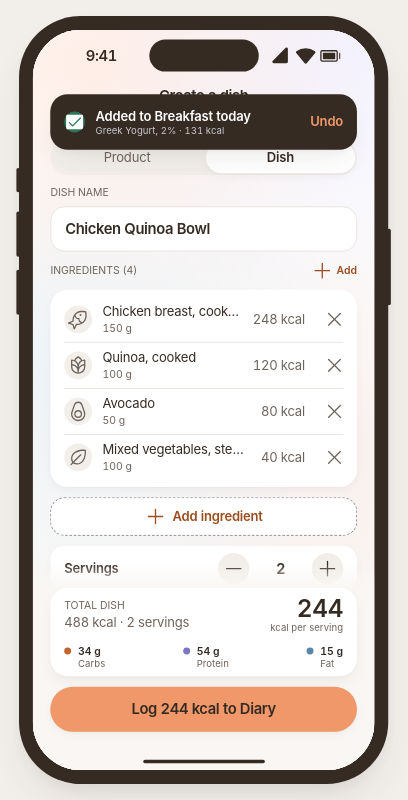
DishScreen › saves one serving to the diary
What coordinates should you click on to do the following:
click the button "Log 244 kcal to Diary"
I would click on:
 (204, 709)
Its box is top-left (51, 687), bottom-right (357, 732).
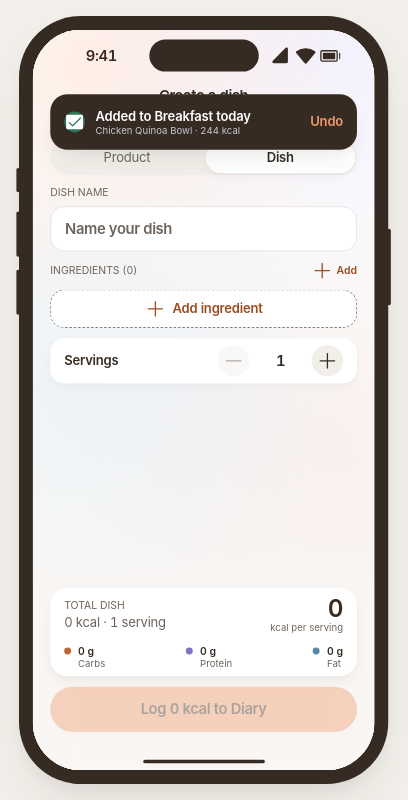
Expected: the message shows "Chicken Quinoa Bowl · 244 kcal", top-left (96, 124), bottom-right (240, 136)
